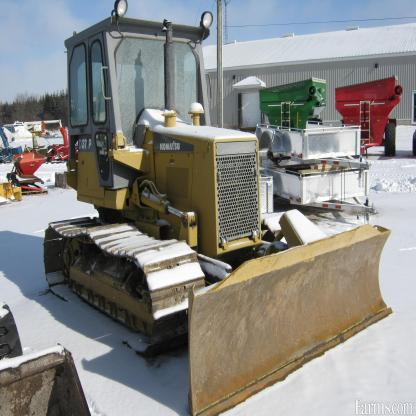bull_dozer/loader/grader: (29, 7, 404, 402)
